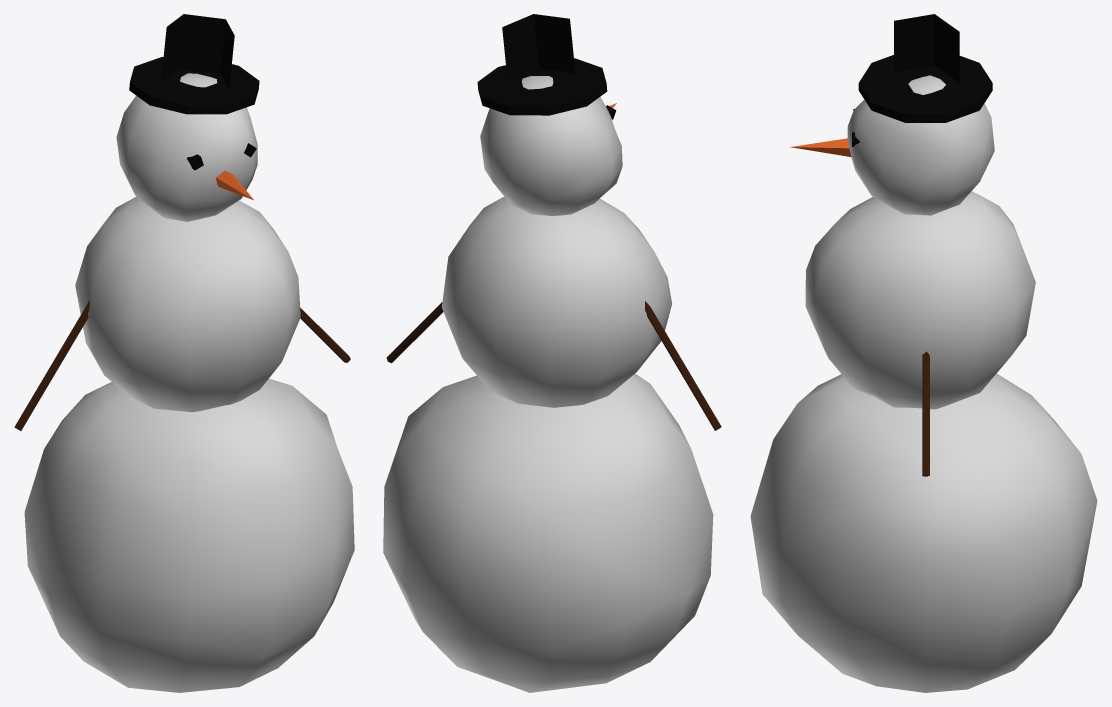
File: snowman_2.fbx
The picture shows the model from 3 angles, left to right: view 1: azimuth 30°, elevation 25°; view 2: azimuth 150°, elevation 25°; view 3: azimuth 270°, elevation 25°; orthographic projection.
Parts seen in each view (by area): view 1: Sphere, Sphere.001, Sphere.002, Cylinder.003, Cylinder, Cylinder.001; view 2: Sphere, Sphere.001, Sphere.002, Cylinder.003, Cylinder, Cylinder.001; view 3: Sphere, Sphere.001, Sphere.002, Cylinder.003, Cylinder.001, Cone.
Part boxes in pixels (x1,y1,x2,y2): Sphere: (24,378,354,692); Sphere.001: (75,196,300,412); Sphere.002: (116,73,257,221); Cylinder.003: (129,14,259,114); Cylinder: (14,300,89,430); Cylinder.001: (300,308,350,362); Sphere: (383,373,713,692); Sphere.001: (441,196,672,407); Sphere.002: (480,76,622,215); Cylinder.003: (477,14,607,115); Cylinder: (645,301,721,430); Cylinder.001: (386,302,443,363); Sphere: (750,373,1097,692); Sphere.001: (805,191,1035,409); Sphere.002: (847,75,994,215); Cylinder.003: (858,14,992,122); Cylinder.001: (922,351,929,476); Cone: (790,138,851,157).
Size of the model in its own units: 232 by 431 by 207.
